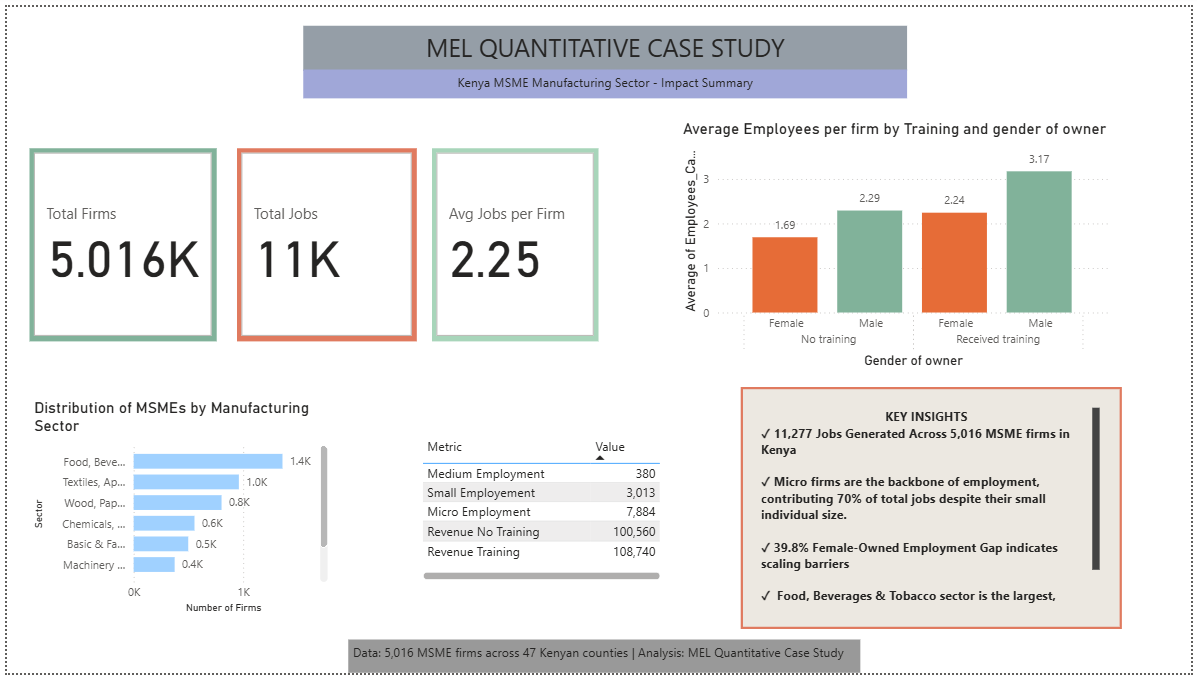

Layout of this report page (visuals, bound fields, positions):
{"tool":"powerbi","page":{"name":"MEL Impact Dashboard","canvas":[1280,720],"ordinal":0},"visuals":[{"type":"clusteredColumnChart","title":"Average Employees per firm by Training and gender of owner","fields":{"Category":["Sheet1.Training","Sheet1.Gender of owner"],"Y":["Avg(Sheet1.Employees_Capped)"]},"box":[726,121,470.2,273.7],"z":0,"group":"g1"},{"type":"textbox","box":[320.4,20.2,653.1,48.5],"z":0},{"type":"textbox","box":[320.4,67.4,653.1,31.1],"z":1000},{"type":"cardVisual","fields":{"Data":["CountNonNull(Sheet1.Employees_Capped)"]},"box":[24.9,153,202.8,209],"z":2000},{"type":"cardVisual","fields":{"Data":["Sum(Sheet1.Employees_Capped)"]},"box":[248.8,153,194.1,209],"z":3000},{"type":"cardVisual","fields":{"Data":["Avg(Sheet1.Employees_Capped)"]},"box":[459,153,180.4,209],"z":4000},{"type":"textbox","box":[0,0,203,150],"z":5000},{"type":"group","id":"g1","title":"Group 1","box":[726,121,470.2,273.7],"z":6000},{"type":"clusteredBarChart","title":"Distribution of MSMEs by Manufacturing Sector","fields":{"Category":["Sheet1.Sector"],"Y":["select","CountNonNull(Sheet1.ID)"]},"box":[24.4,422.5,327.4,237.6],"z":7000},{"type":"textbox","box":[793.6,410.5,411.8,261.2],"z":9000},{"type":"textbox","box":[369.5,684.2,553.6,36.1],"z":10000},{"type":"tableEx","fields":{"Values":["Sheet2.Metric","Sheet2.Value"]},"box":[443.2,459.5,267.6,164.9],"z":10001}]}

Visuals, with their boxes in screenshot pixels (x1, y1, x2, y2), scaled from the page's 1280x720 canvas onto the 1197x678 screenshot:
"Average Employees per firm by Training and gender of owner" clusteredColumnChart: bbox=(679, 114, 1119, 372)
textbox: bbox=(300, 19, 910, 65)
textbox: bbox=(300, 63, 910, 93)
cardVisual - CountNonNull(Sheet1.Employees_Capped): bbox=(23, 144, 213, 341)
cardVisual - Sum(Sheet1.Employees_Capped): bbox=(233, 144, 414, 341)
cardVisual - Avg(Sheet1.Employees_Capped): bbox=(429, 144, 598, 341)
textbox: bbox=(0, 0, 190, 141)
"Group 1" group: bbox=(679, 114, 1119, 372)
"Distribution of MSMEs by Manufacturing Sector" clusteredBarChart: bbox=(23, 398, 329, 622)
textbox: bbox=(742, 387, 1127, 633)
textbox: bbox=(346, 644, 863, 677)
tableEx - Sheet2.Metric x Sheet2.Value: bbox=(414, 433, 665, 588)
